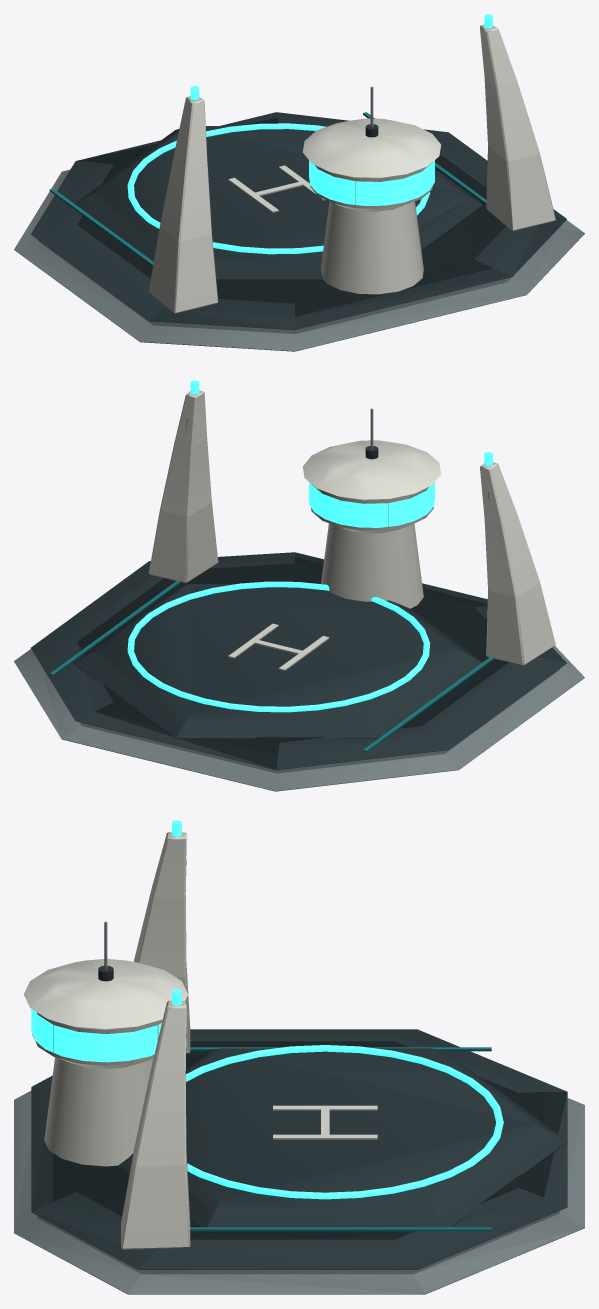
Rendered from FlightDeck.glb.
3 views of the same model, one above another, from view 1: azimuth 30°, elevation 25°; view 2: azimuth 150°, elevation 25°; view 3: azimuth 270°, elevation 25° (orthographic). The views are drawn at different scales.
Parts seen in each view (by area): view 1: export_FlightDeck_Foundation; view 2: export_FlightDeck_Foundation; view 3: export_FlightDeck_Foundation.
Part boxes in pixels (x1,y1,x2,y2): export_FlightDeck_Foundation: (14, 14, 584, 351); export_FlightDeck_Foundation: (14, 380, 584, 791); export_FlightDeck_Foundation: (14, 820, 584, 1294).
Size of the model in its own units: 7.06 by 3.35 by 6.66.
